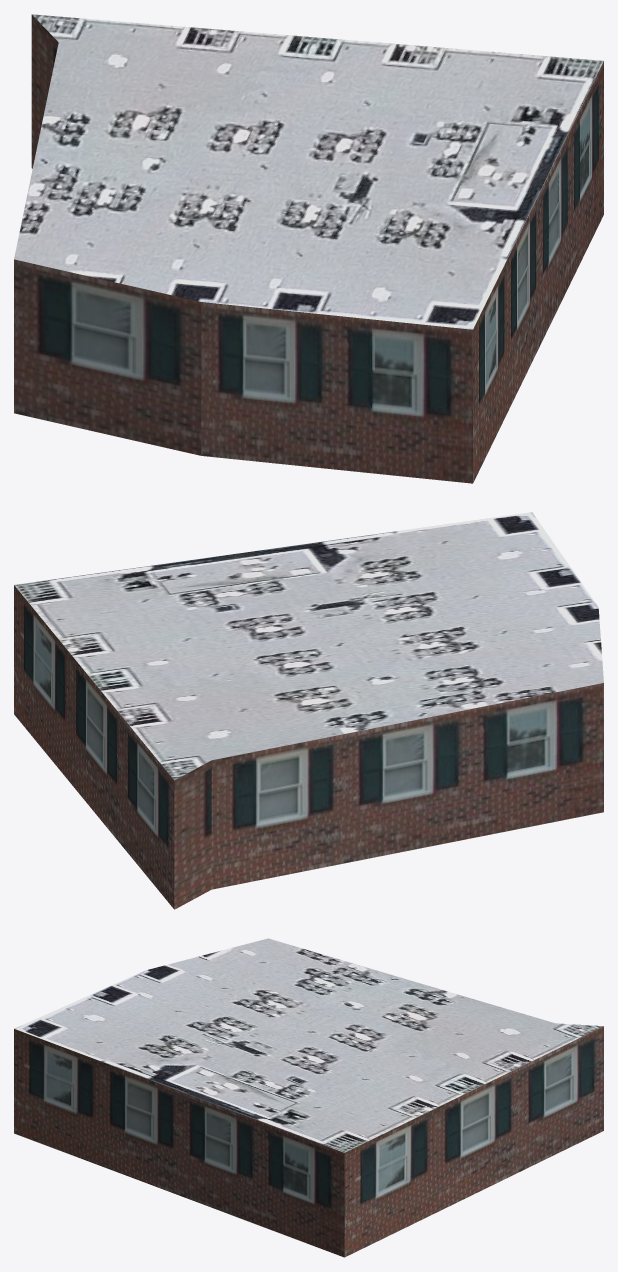
The model's file is ResTex__5314.fbx.
The picture shows the model from 3 angles, top to bottom: view 1: azimuth 30°, elevation 25°; view 2: azimuth 150°, elevation 25°; view 3: azimuth 270°, elevation 25°; orthographic projection. The views are drawn at different scales.
Visible parts, largest first — view 1: CityEngineMaterial_4_m, CityEngineMaterial_14_m; view 2: CityEngineMaterial_4_m, CityEngineMaterial_14_m; view 3: CityEngineMaterial_4_m, CityEngineMaterial_14_m.
Part boxes in pixels (bbox=[...]): CityEngineMaterial_4_m: bbox=[14, 14, 603, 329]; CityEngineMaterial_14_m: bbox=[14, 14, 603, 483]; CityEngineMaterial_4_m: bbox=[14, 512, 603, 780]; CityEngineMaterial_14_m: bbox=[14, 585, 603, 909]; CityEngineMaterial_4_m: bbox=[14, 938, 603, 1152]; CityEngineMaterial_14_m: bbox=[14, 1026, 603, 1257].
Bounding box in the file's own units: 13.18 × 3 × 15.32.
Materials: 2 (2 with a texture image).
